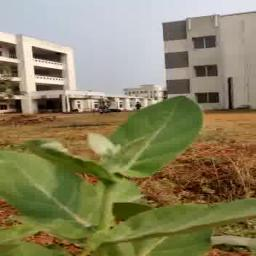Calotropis: (5, 109, 255, 253)
